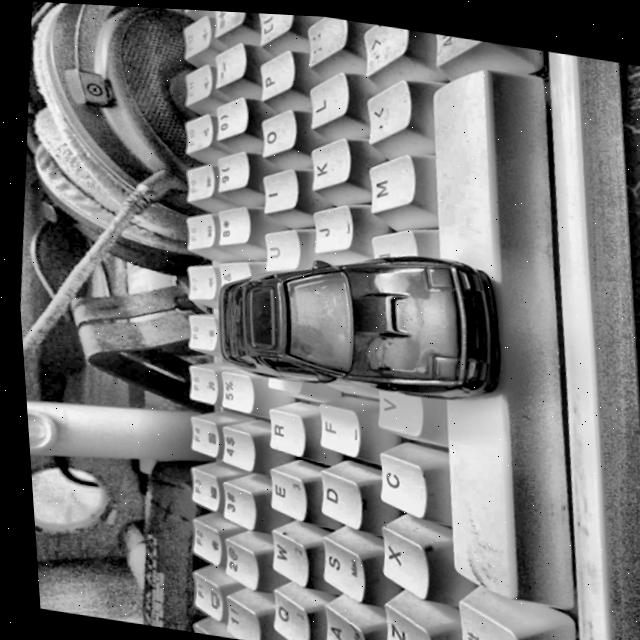car: (202, 220, 508, 409)
